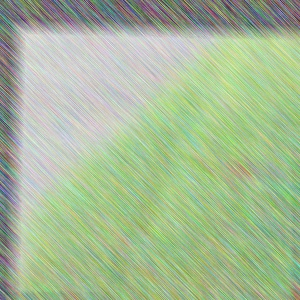Bacterial_Leaf_Blight: (220, 150, 267, 188)
